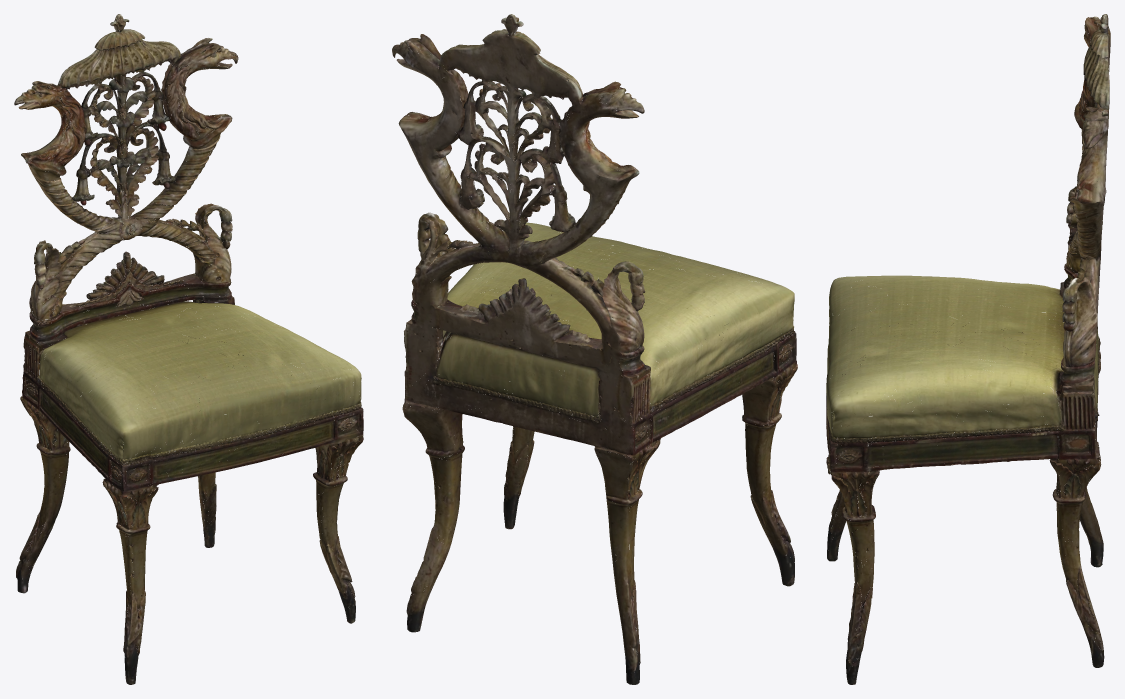
File: wizard_chair.glb
3 renders of one model, left to right at view 1: azimuth 30°, elevation 25°; view 2: azimuth 150°, elevation 25°; view 3: azimuth 270°, elevation 25°, orthographic. The views are drawn at different scales.
Parts seen in each view (by area): view 1: Object_4, Object_5; view 2: Object_4, Object_5; view 3: Object_4, Object_5.
Boxes of the visible parts, left/top/right/bottom form: Object_4: left=14, top=15, right=363, bottom=684; Object_5: left=16, top=14, right=363, bottom=671; Object_4: left=392, top=15, right=797, bottom=684; Object_5: left=400, top=14, right=797, bottom=664; Object_4: left=826, top=15, right=1110, bottom=684; Object_5: left=826, top=14, right=1110, bottom=665.
Size of the model in its own units: 0.6345 by 1.37 by 0.582.
1 material, 1 textured.
